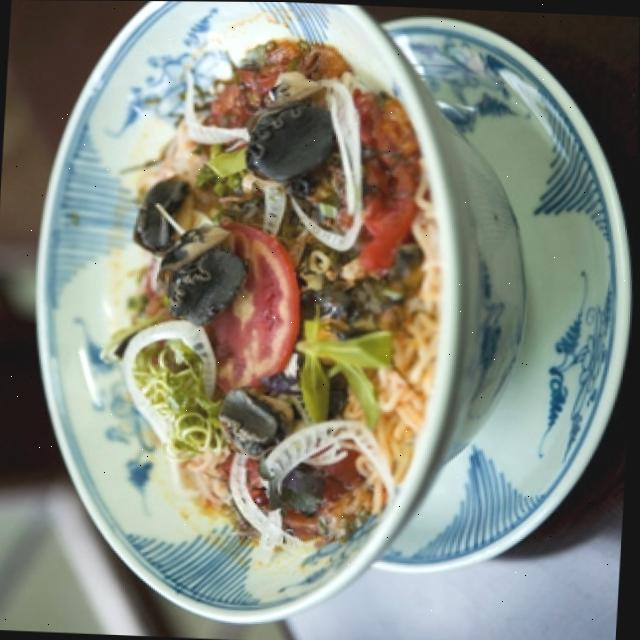面条主食: (10, 0, 506, 635)
